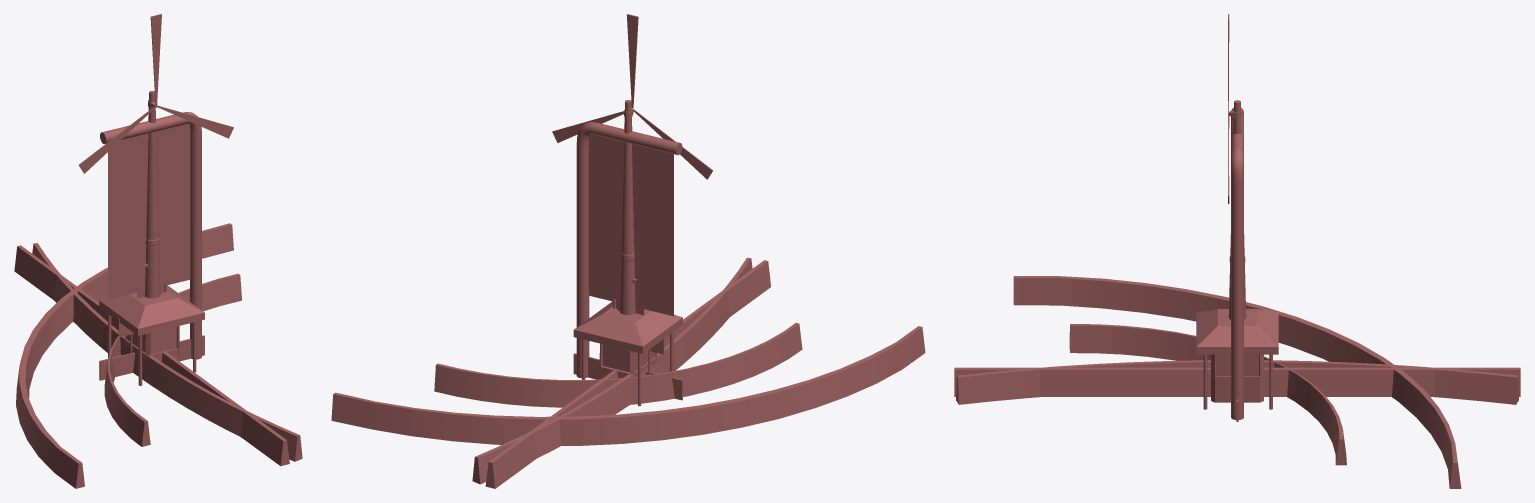
File: Props Model.fbx
The picture shows the model from 3 angles, left to right: view 1: azimuth 30°, elevation 25°; view 2: azimuth 150°, elevation 25°; view 3: azimuth 270°, elevation 25°; orthographic projection. The views are drawn at different scales.
Parts seen in each view (by area): view 1: Banner_Flag, Curve_Boundry, Curve_Boundry_15, Straight_boundry, Tent, cruve_sm_Boundry, Pole, Wings, Booth, board1; view 2: Curve_Boundry, Banner_Flag, cruve_sm_Boundry, Curve_Boundry_15, Straight_boundry, Tent, Pole, Wings, Booth; view 3: Curve_Boundry, Straight_boundry, Curve_Boundry_15, cruve_sm_Boundry, Banner_Flag, Tent, Booth.
Part boxes in pixels (x1,y1,x2,y2): Banner_Flag: (100,112,201,359); Curve_Boundry: (16,223,233,488); Curve_Boundry_15: (32,243,302,461); Straight_boundry: (14,245,289,466); Tent: (99,285,204,385); cruve_sm_Boundry: (104,273,241,446); Pole: (145,91,160,298); Wings: (78,14,233,173); Booth: (124,326,179,361); board1: (100,335,204,380); Curve_Boundry: (331,326,925,445); Banner_Flag: (576,122,682,378); cruve_sm_Boundry: (434,323,802,407); Curve_Boundry_15: (472,257,752,484); Straight_boundry: (485,260,770,488); Tent: (573,301,682,406); Pole: (619,100,635,314); Wings: (552,14,713,179); Booth: (599,343,656,379); Curve_Boundry: (1013,276,1461,488); Straight_boundry: (954,367,1520,396); Curve_Boundry_15: (956,360,1518,404); cruve_sm_Boundry: (1069,324,1346,465); Banner_Flag: (1231,107,1243,419); Tent: (1196,309,1278,409); Booth: (1211,354,1263,402).
Size of the model in its own units: 2682 by 2513 by 3407.
